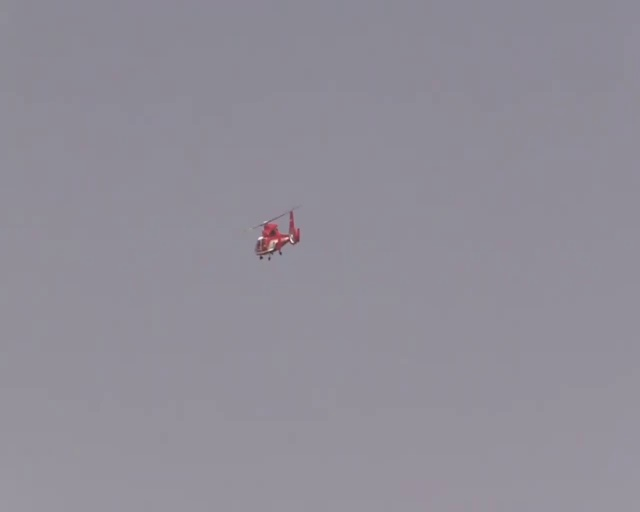HELICOPTER: (249, 204, 302, 261)
